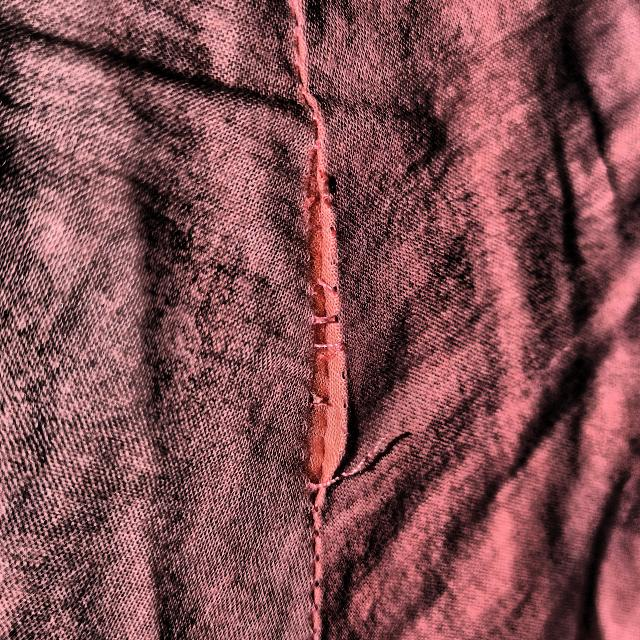seam: (205, 144, 436, 530)
